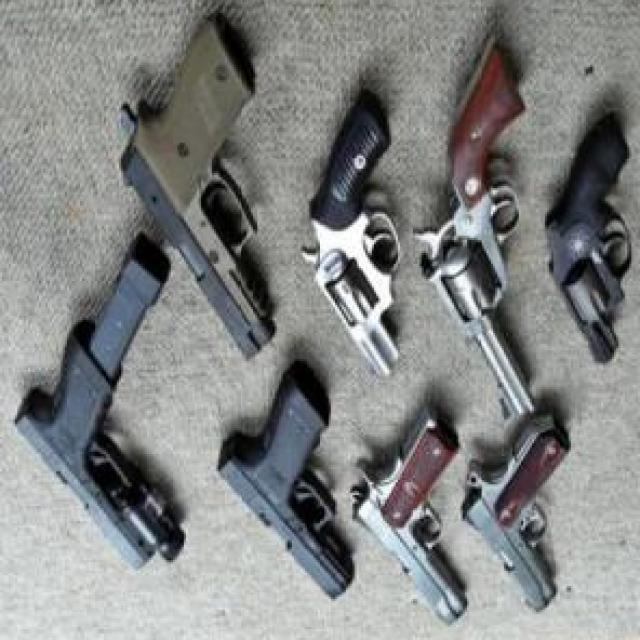pistol: (117, 14, 276, 376), (418, 33, 540, 424), (15, 319, 185, 573), (214, 370, 363, 599), (303, 79, 411, 376), (348, 417, 476, 625), (547, 108, 631, 372), (458, 420, 566, 612)
